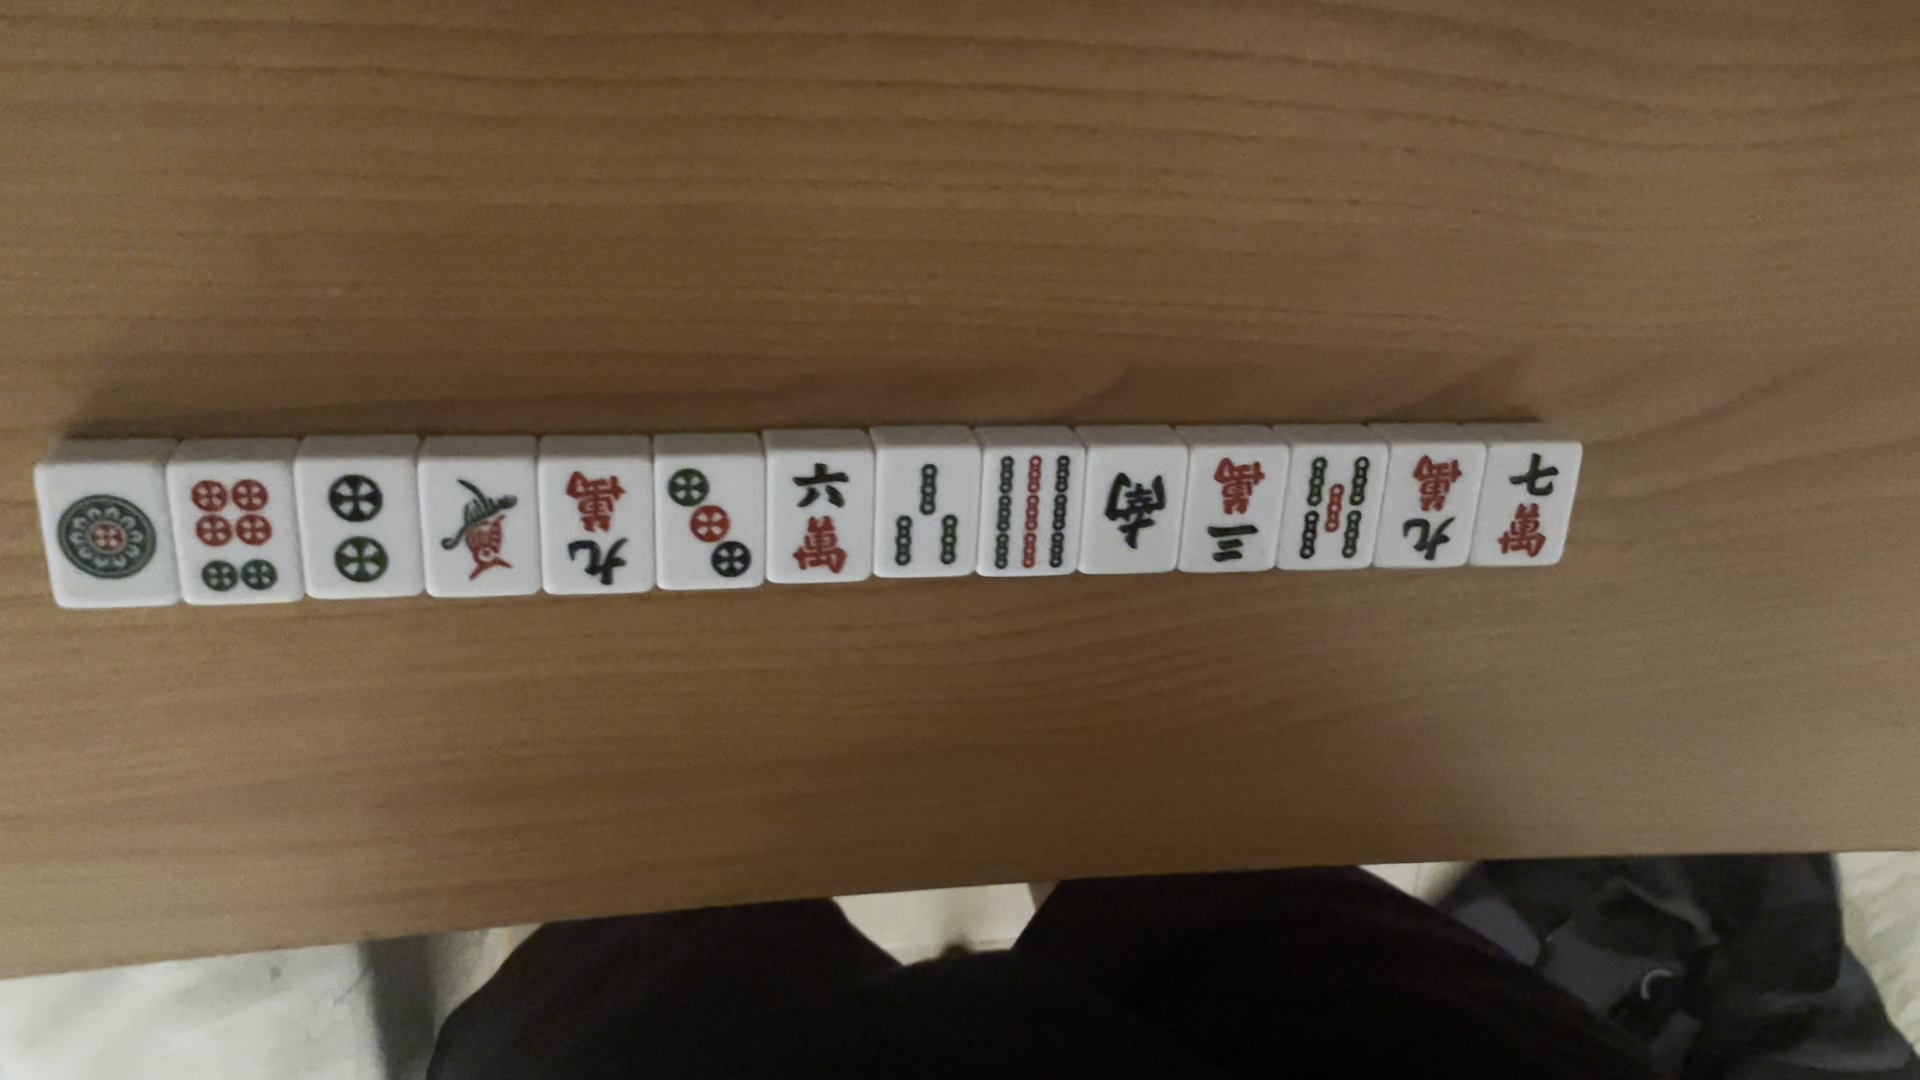b-1: (436, 472, 524, 588)
b-3: (886, 454, 965, 567)
b-5: (1291, 454, 1375, 570)
b-9: (984, 454, 1071, 570)
c-3: (1197, 451, 1262, 567)
c-6: (787, 460, 857, 580)
c-7: (1484, 450, 1567, 564)
c-9: (1385, 440, 1477, 568), (545, 462, 636, 589)
d-1: (54, 483, 164, 593)
d-2: (315, 475, 396, 585)
d-3: (665, 465, 761, 591)
d-6: (175, 473, 284, 603)
honors-south: (1097, 463, 1167, 551)
